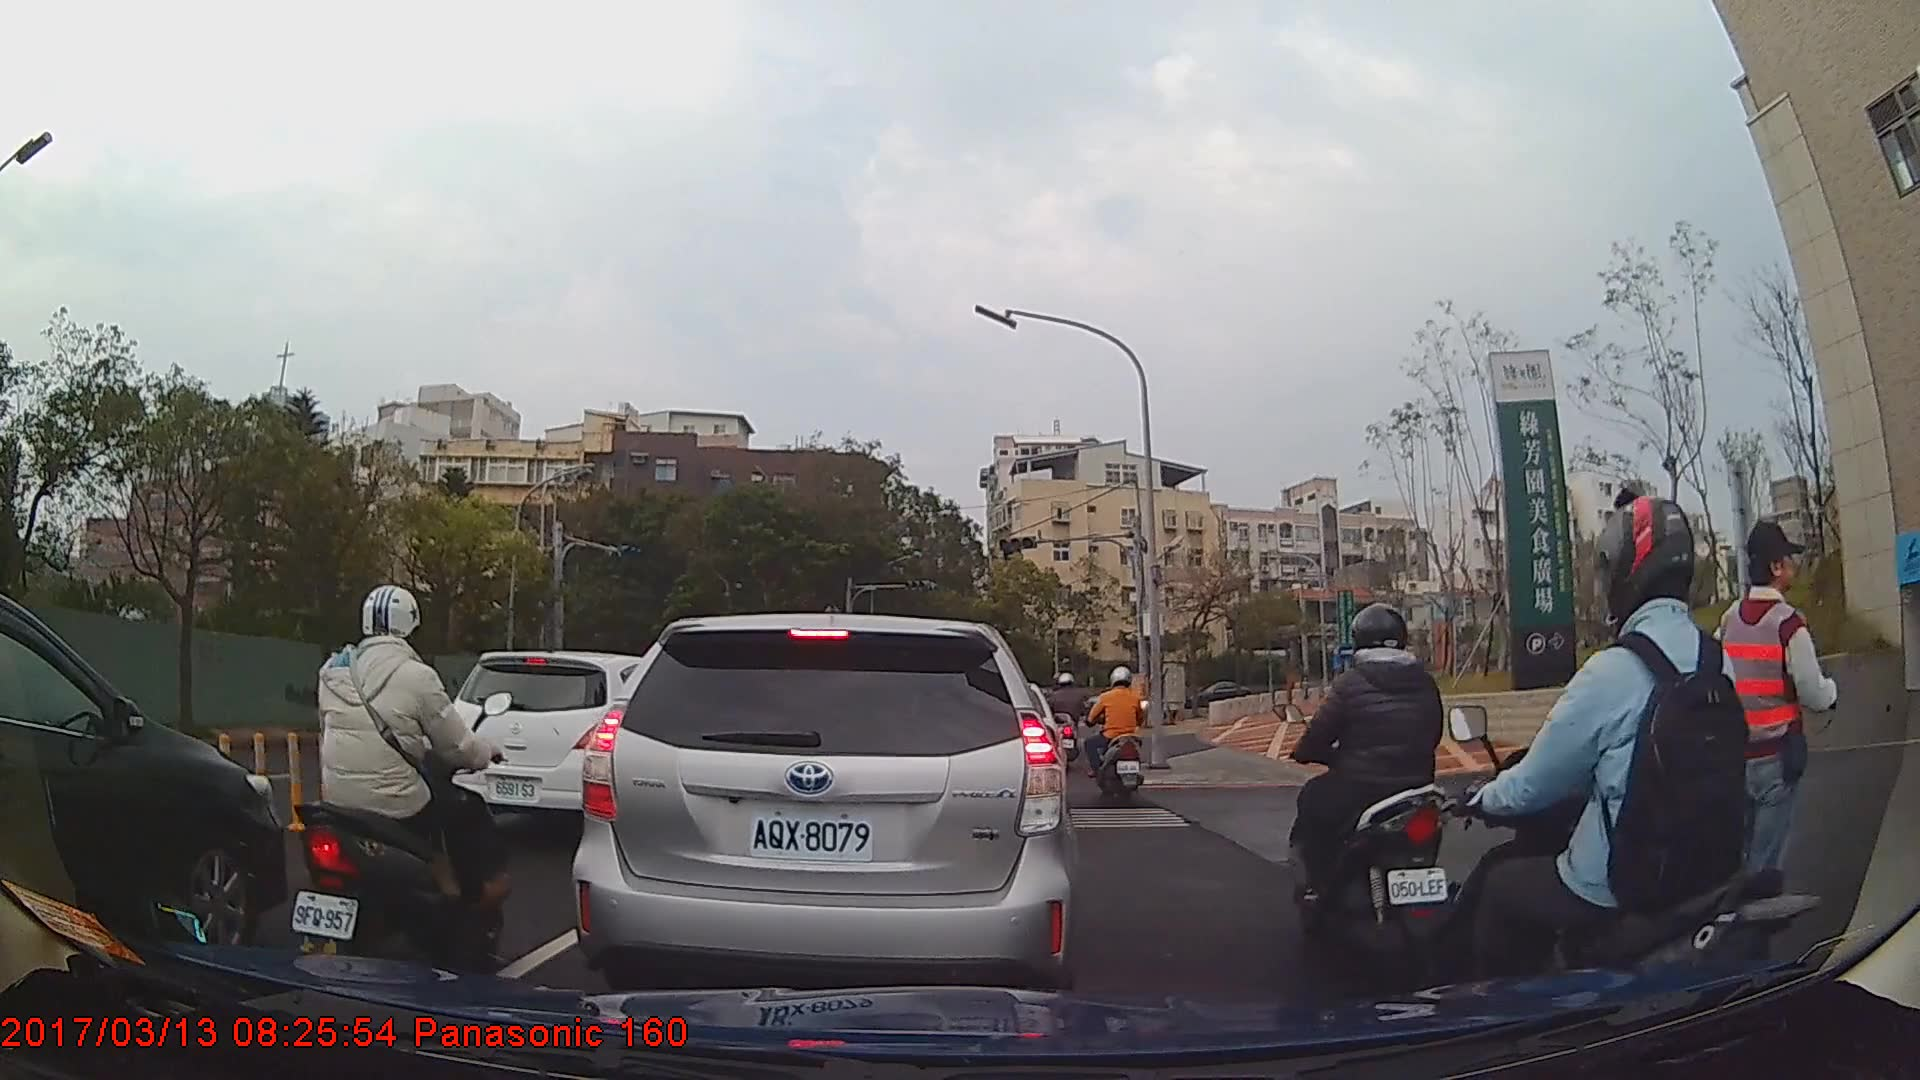pedestrian: (1658, 520, 1843, 986)
rider: (1431, 491, 1819, 1070), (288, 583, 515, 988), (1290, 601, 1459, 969), (1085, 664, 1147, 802), (1045, 671, 1085, 768)
vehicle: (569, 612, 1076, 993), (0, 590, 291, 965), (435, 648, 669, 838), (1184, 679, 1254, 717)
